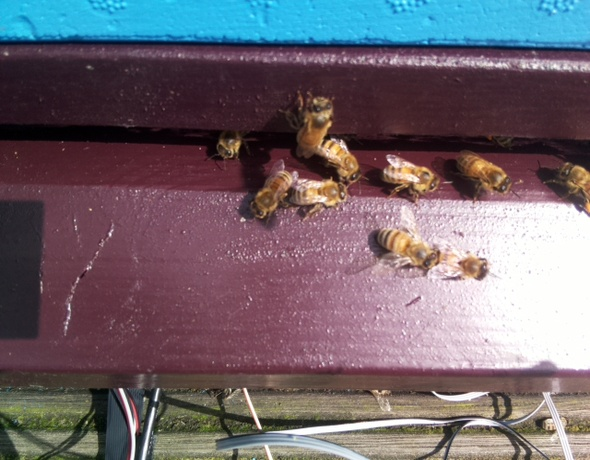no_pollen: (371, 206, 440, 274), (287, 88, 335, 162), (425, 234, 490, 284), (379, 154, 443, 203), (250, 161, 299, 224), (310, 137, 364, 189), (457, 153, 515, 200), (286, 177, 349, 219), (212, 129, 246, 170)
pollen: (548, 156, 590, 219)
